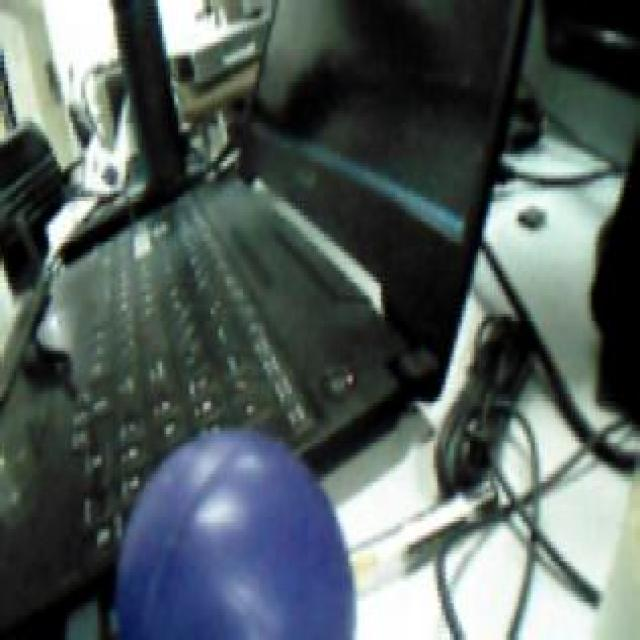BallPurple: (117, 427, 354, 640)
